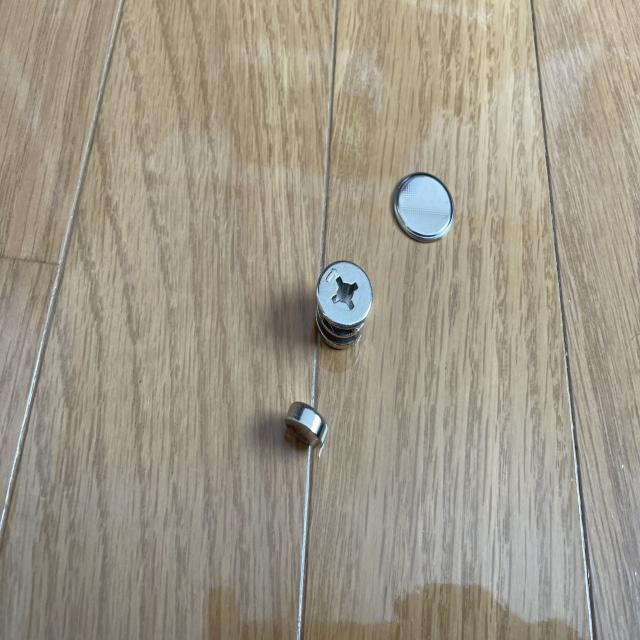COIN: (392, 172, 456, 244), (284, 400, 328, 448)
